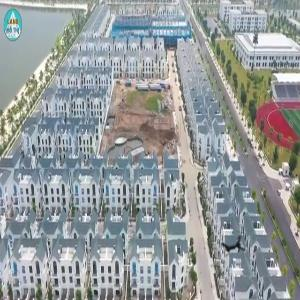drone: (205, 220, 261, 276)
